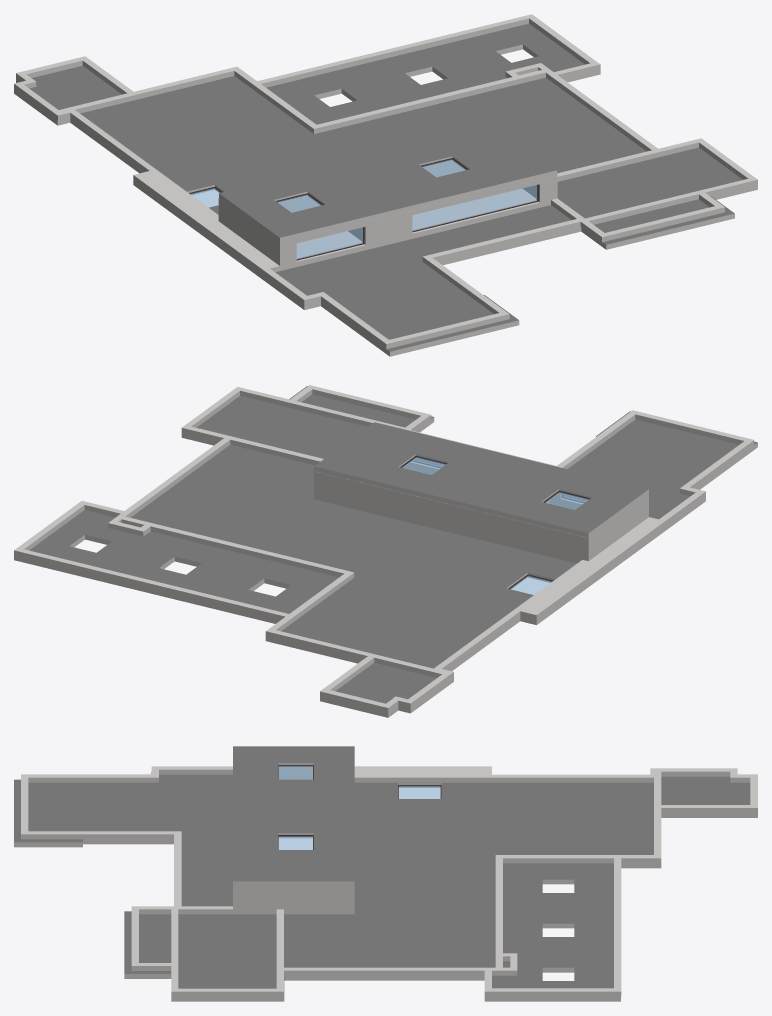
Rendered from Roof.glb.
The picture shows the model from 3 angles, top to bottom: view 1: azimuth 30°, elevation 25°; view 2: azimuth 150°, elevation 25°; view 3: azimuth 270°, elevation 25°; orthographic projection.
Visible parts, largest first — view 1: Box060, Box056, Box241, Box240, Box243, Box239, Box242; view 2: Box060, Box056, Box241, Box240, Box239; view 3: Box060, Box056, Box241, Box240, Box239, Box246, Box244, Box245.
Boxes of the visible parts, bbox=[...] form: Box060: bbox=[14, 23, 757, 356]; Box056: bbox=[14, 63, 757, 348]; Box241: bbox=[219, 125, 557, 242]; Box240: bbox=[257, 14, 600, 87]; Box243: bbox=[412, 185, 537, 231]; Box239: bbox=[16, 56, 133, 94]; Box242: bbox=[296, 227, 363, 259]; Box060: bbox=[14, 386, 757, 717]; Box056: bbox=[108, 385, 754, 708]; Box241: bbox=[314, 422, 648, 537]; Box240: bbox=[14, 501, 288, 620]; Box239: bbox=[320, 656, 398, 712]; Box060: bbox=[14, 772, 757, 1001]; Box056: bbox=[21, 766, 737, 996]; Box241: bbox=[233, 746, 354, 885]; Box240: bbox=[484, 858, 621, 996]; Box239: bbox=[661, 774, 757, 812]; Box246: bbox=[398, 785, 440, 798]; Box244: bbox=[278, 765, 312, 779]; Box245: bbox=[278, 836, 312, 849].
Size of the model in its own units: 20.19 by 1.59 by 28.21.
